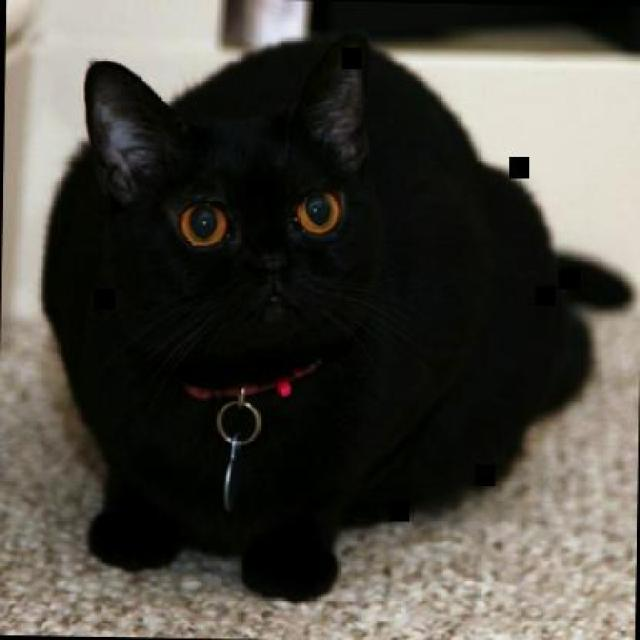cat: (36, 26, 633, 608)
